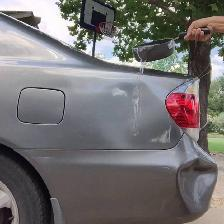dent: (165, 155, 224, 221)
scrach: (96, 76, 182, 147)
